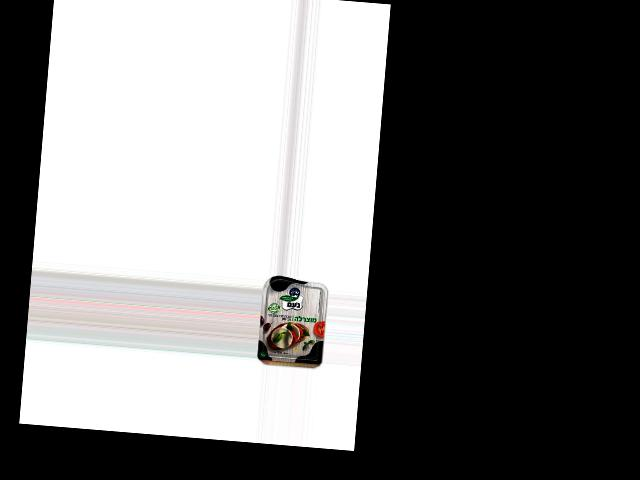cheese: (257, 276, 329, 365)
